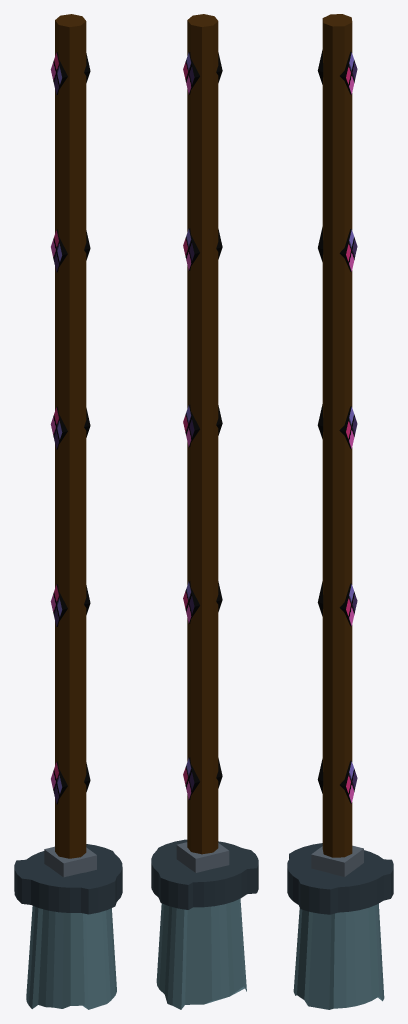
The model's file is Mop.fbx.
3 renders of one model, left to right at view 1: azimuth 30°, elevation 25°; view 2: azimuth 210°, elevation 25°; view 3: azimuth 330°, elevation 25°, orthographic.
Parts seen in each view (by area): view 1: Mop; view 2: Mop; view 3: Mop.
Boxes of the visible parts, <box> form: Mop: <box>14,14,122,1009</box>; Mop: <box>151,14,258,1009</box>; Mop: <box>287,14,393,1009</box>.
Bounding box in the file's own units: 40.26 × 43.89 × 424.
